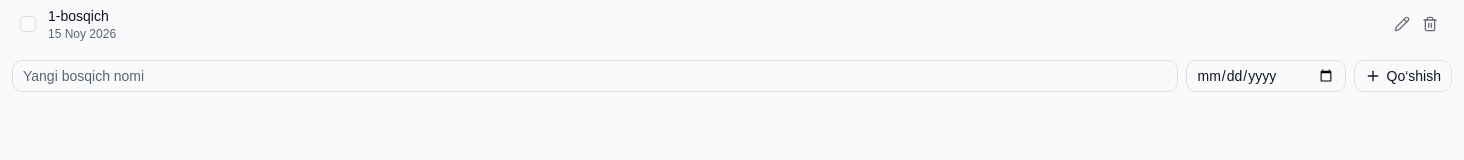
Test: MilestoneList editing › rejects an empty title and cancels with Escape
Step 1. Click the button named "“1-bosqich” bosqichini tahrirlash" → [1402, 24], box [1388, 10, 1416, 38]
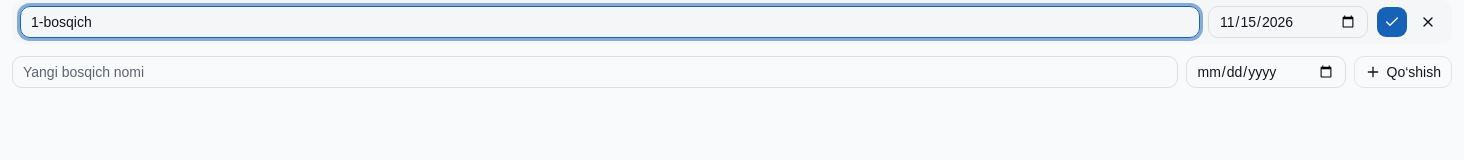
Step 2. Clear the field named "Bosqich nomi" → [610, 22], box [20, 6, 1200, 38]
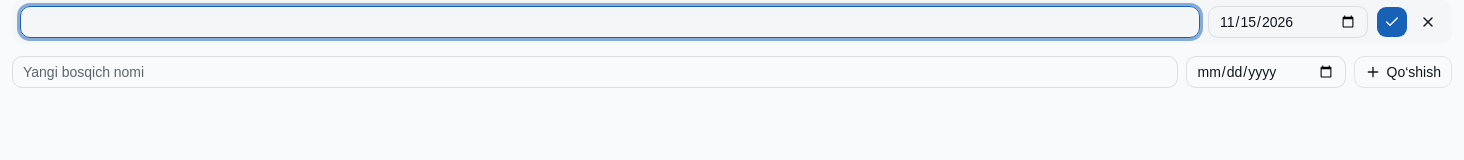
Step 3. Click the button named "Saqlash" → [1392, 22], box [1376, 6, 1408, 38]
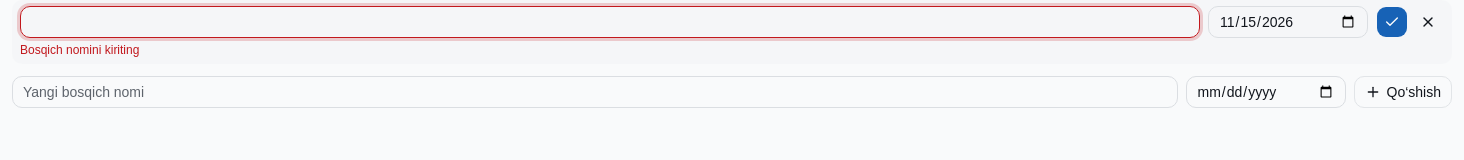
Check: the text "Bosqich nomini kiriting" is shown, box [20, 43, 139, 57]
Step 4. Press Escape
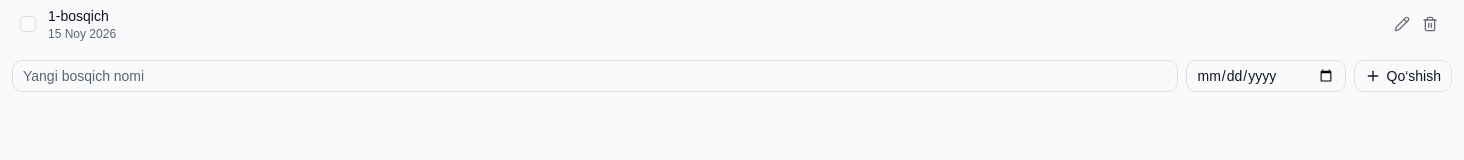
Check: the text "1-bosqich" is shown, box [48, 8, 109, 24]
